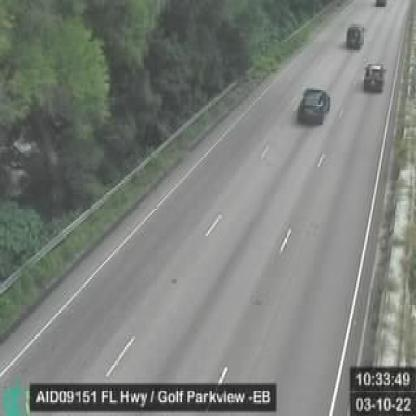Car: (297, 86, 330, 120), (364, 62, 385, 92), (344, 22, 362, 47)
